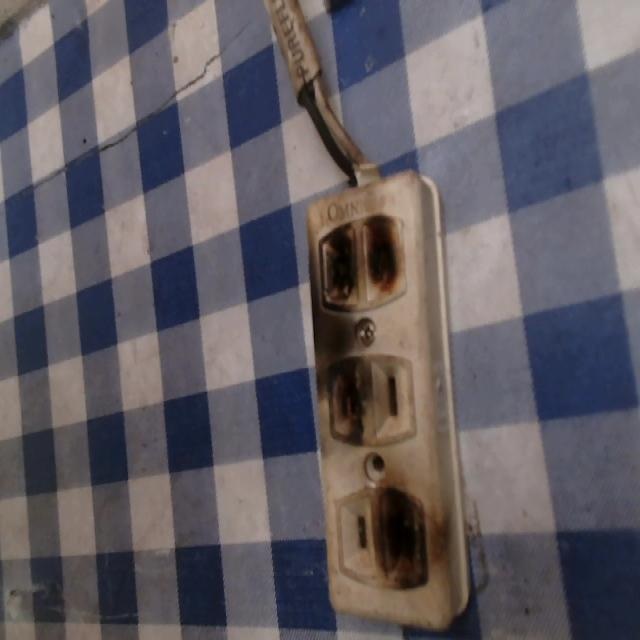-: (317, 210, 408, 318), (371, 483, 435, 589), (317, 348, 380, 452)
